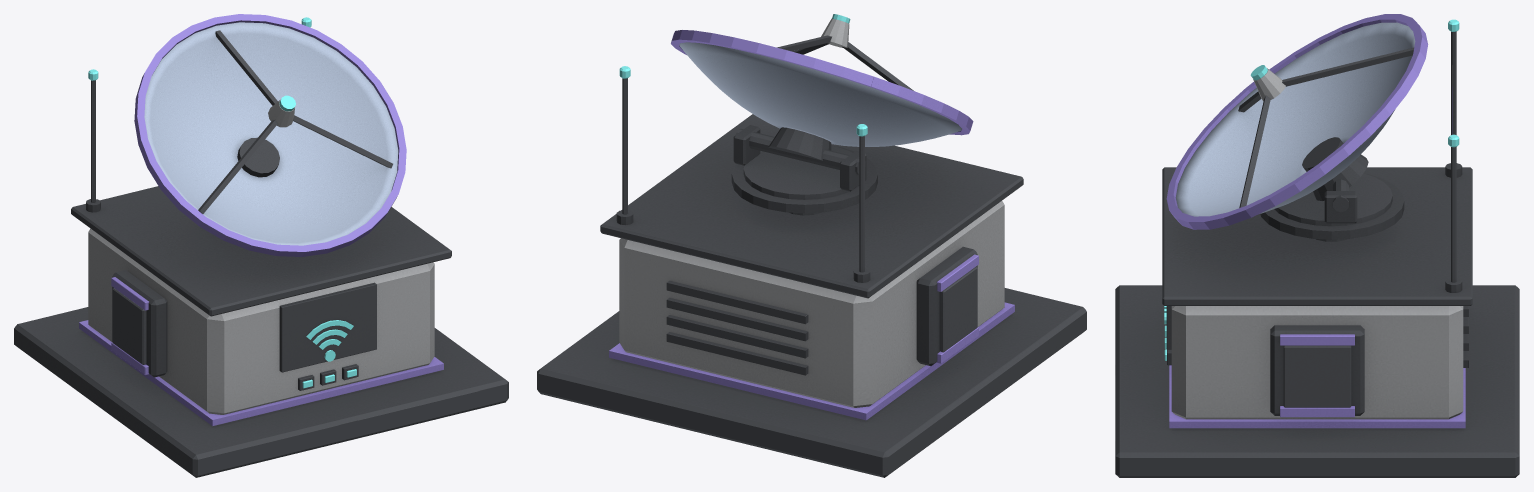
The model's file is SM_CommRelay.fbx.
3 renders of one model, left to right at view 1: azimuth 30°, elevation 25°; view 2: azimuth 150°, elevation 25°; view 3: azimuth 270°, elevation 25°, orthographic. The views are drawn at different scales.
Visible parts, largest first — view 1: SMN_CommRelay, SpinDish_CommRelay, Emblem_CommSignal; view 2: SMN_CommRelay, SpinDish_CommRelay; view 3: SMN_CommRelay, SpinDish_CommRelay, Emblem_CommSignal.
Part boxes in pixels (x1,y1,x2,y2): SMN_CommRelay: (14,80,508,477); SpinDish_CommRelay: (134,14,406,256); Emblem_CommSignal: (88,17,356,388); SMN_CommRelay: (537,78,1086,477); SpinDish_CommRelay: (671,14,973,199); SMN_CommRelay: (1115,31,1519,477); SpinDish_CommRelay: (1166,14,1428,229); Emblem_CommSignal: (1164,19,1459,360).
Size of the model in its own units: 0.86 by 0.839 by 0.86.
